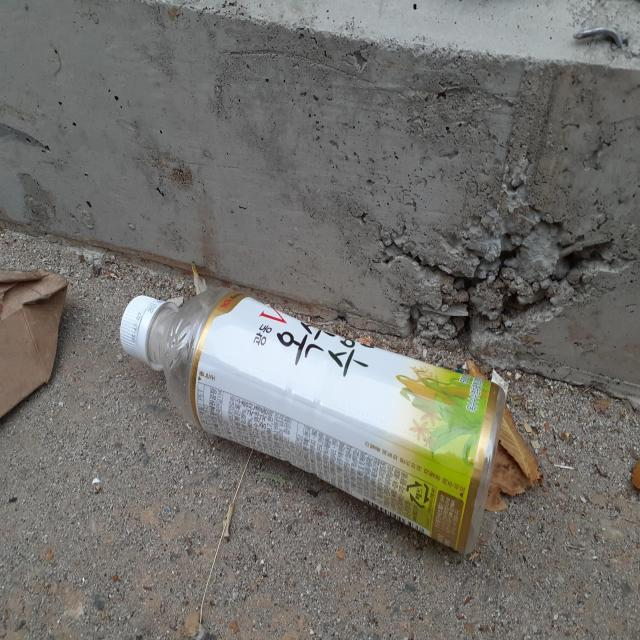plastic: (120, 286, 507, 553)
